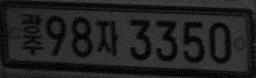0: (208, 21, 233, 64)
3: (155, 19, 178, 63), (129, 18, 152, 61)
5: (183, 21, 205, 63)
8: (69, 15, 93, 57)
9: (45, 14, 67, 57)
광주_V: (20, 11, 43, 56)
자: (95, 18, 120, 56)
